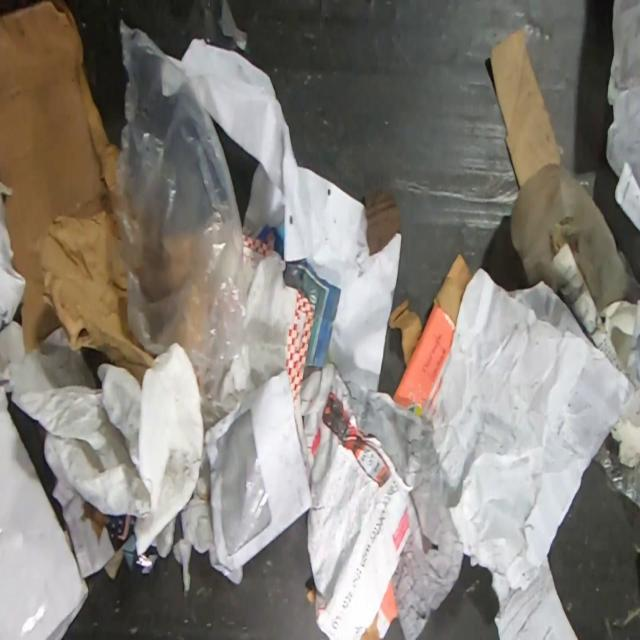cardboard: (0, 0, 120, 353), (388, 250, 472, 417), (489, 25, 563, 189), (364, 187, 402, 256)
soft_plastic: (114, 15, 254, 432), (509, 163, 640, 314), (574, 169, 596, 200)
